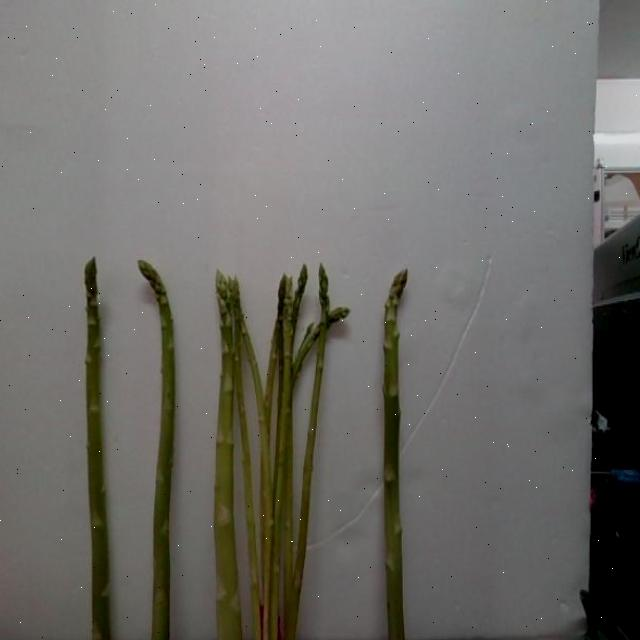aspargus: (135, 260, 178, 640), (83, 261, 110, 640), (384, 271, 410, 640)
